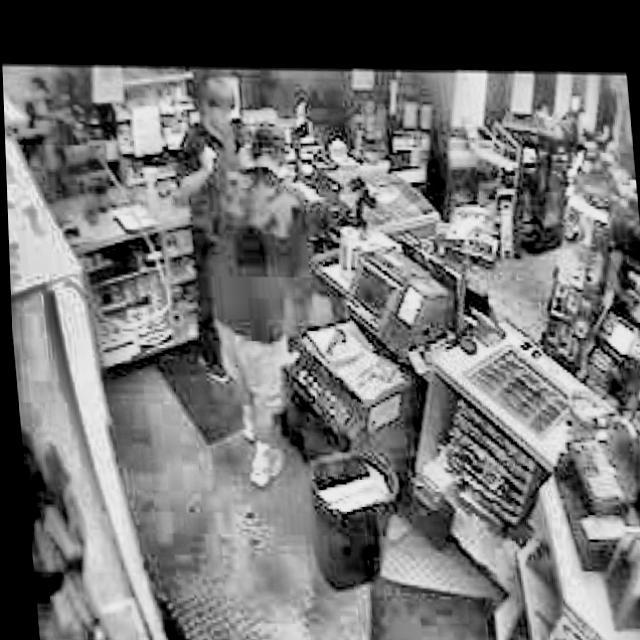Weapon: (161, 63, 322, 532)
